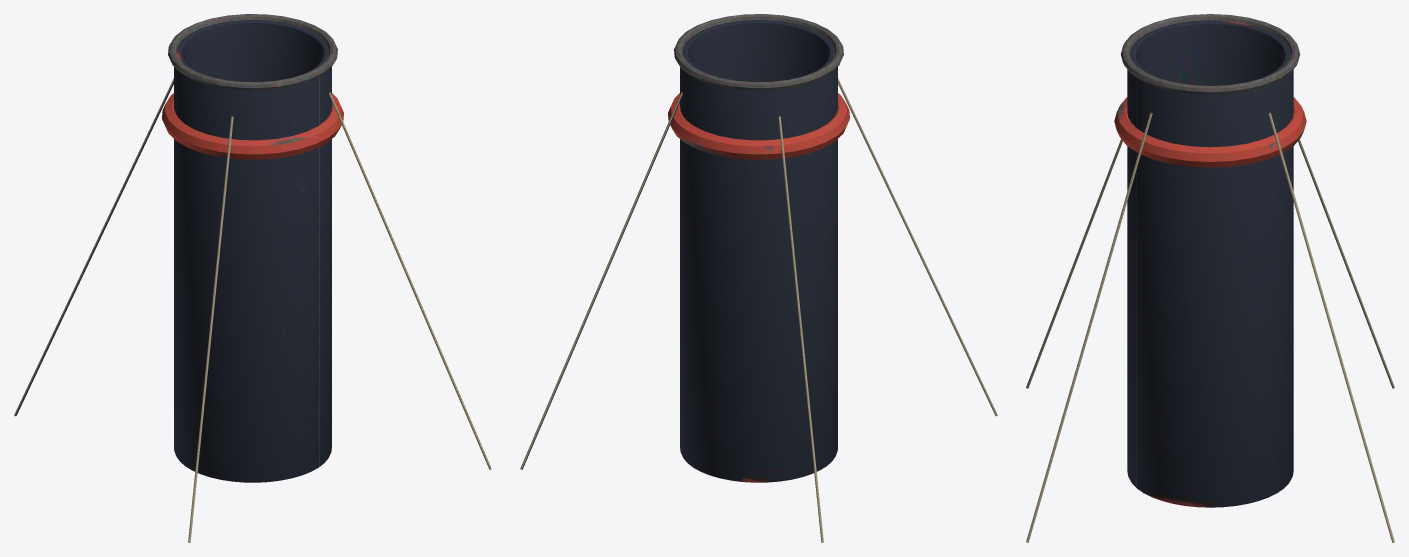
File: funnel.glb
3 views of the same model, side by side, from view 1: azimuth 30°, elevation 25°; view 2: azimuth 150°, elevation 25°; view 3: azimuth 270°, elevation 25° (orthographic). The views are drawn at different scales.
Visible parts, largest first — view 1: funnel, band, cap, stay2, stay3, stay1; view 2: funnel, band, cap, stay1, stay0, stay2; view 3: funnel, band, cap, stay0, stay3, stay1, stay2.
Boxes of the visible parts, x1=… form: funnel: x1=174, y1=20, x2=331, y2=482; band: x1=162, y1=93, x2=343, y2=159; cap: x1=168, y1=14, x2=337, y2=90; stay2: x1=188, y1=116, x2=233, y2=542; stay3: x1=329, y1=92, x2=491, y2=469; stay1: x1=14, y1=78, x2=173, y2=416; funnel: x1=680, y1=20, x2=837, y2=482; band: x1=668, y1=93, x2=849, y2=159; cap: x1=674, y1=14, x2=843, y2=90; stay1: x1=778, y1=116, x2=823, y2=542; stay0: x1=520, y1=92, x2=682, y2=469; stay2: x1=838, y1=78, x2=997, y2=416; funnel: x1=1127, y1=20, x2=1293, y2=507; band: x1=1114, y1=97, x2=1306, y2=167; cap: x1=1120, y1=14, x2=1300, y2=94; stay0: x1=1268, y1=112, x2=1394, y2=542; stay3: x1=1026, y1=112, x2=1152, y2=542; stay1: x1=1298, y1=139, x2=1394, y2=388; stay2: x1=1026, y1=139, x2=1122, y2=388.
Size of the model in its own units: 3.99 by 5.05 by 3.99.
1 material, 1 textured.
